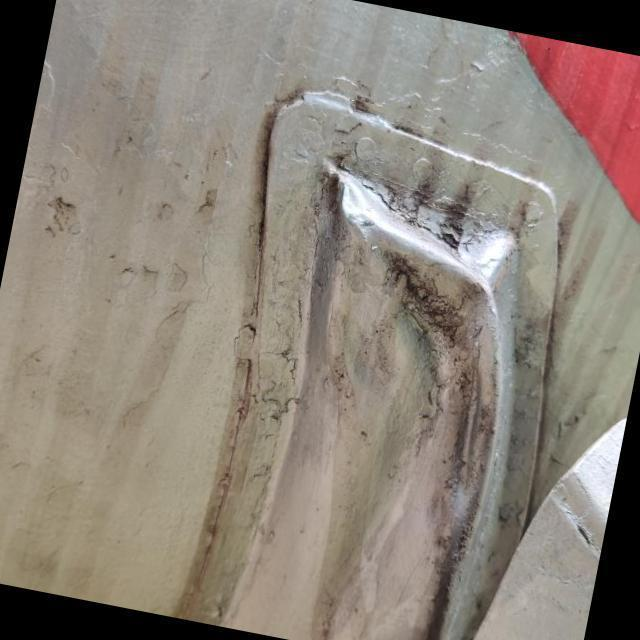dent: (290, 159, 522, 639)
